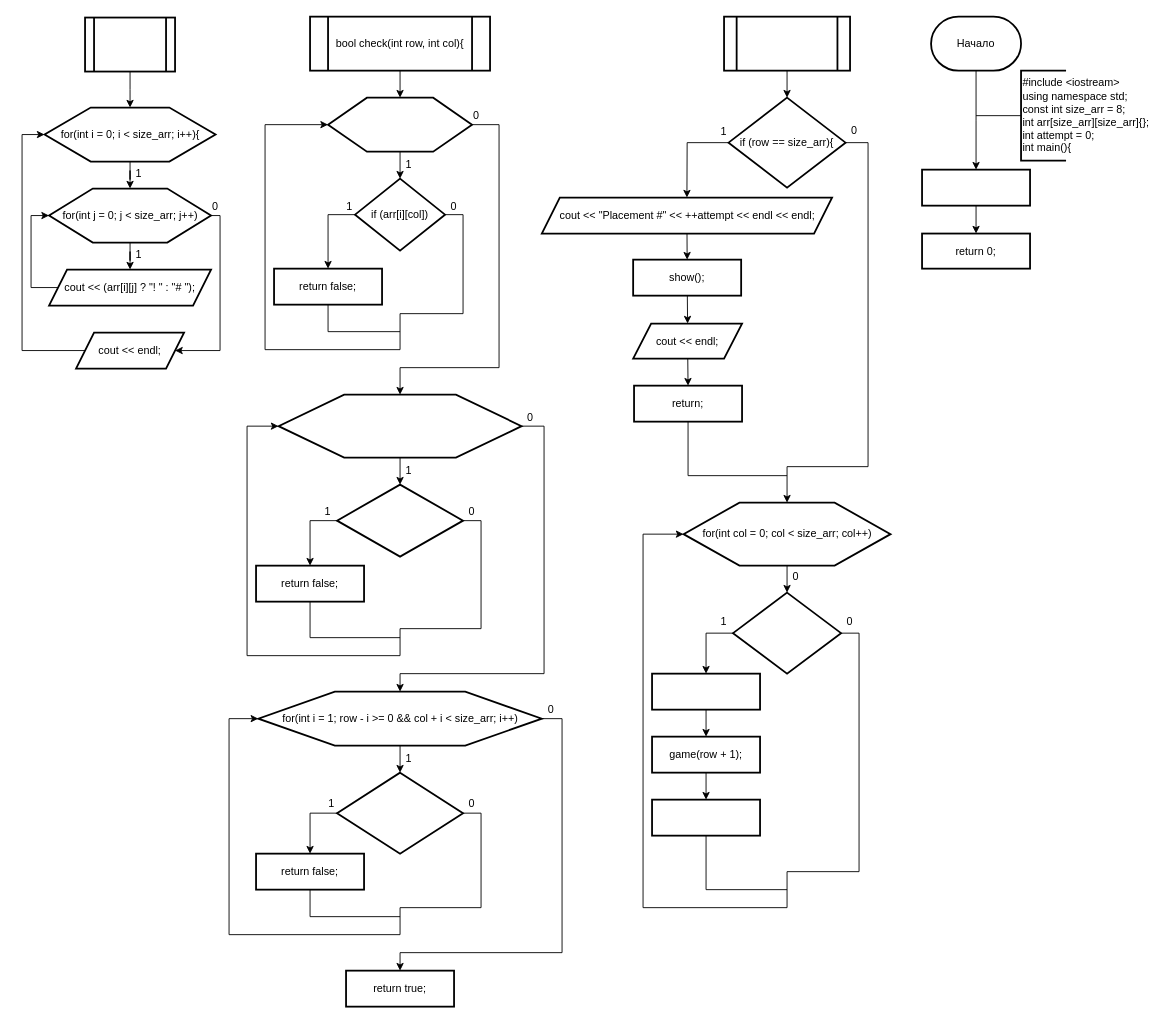
Image size: 1166x1022. Some labels were removed from this diagram. The centre of each missing label's shape, as x and y in pixels:
"arr[row][col] = 0;" belongs at (x=705, y=817).
"arr[row][col] = 1;" belongs at (x=705, y=691).
"for(int i = 0; i < row; i++)" belongs at (x=399, y=124).
"for(int i = 1; row - i >= 0 && col - i >= 0; i++)" belongs at (x=399, y=425).
"game(0);" belongs at (x=975, y=187).
"if (arr[row - i][col + i])" belongs at (x=400, y=812).
"if (arr[row - i][col - i])" belongs at (x=400, y=520).
"if(check(row, col)){" belongs at (x=787, y=632).
"void game(int row){" belongs at (x=786, y=43).
"void show(){" belongs at (x=130, y=44).
